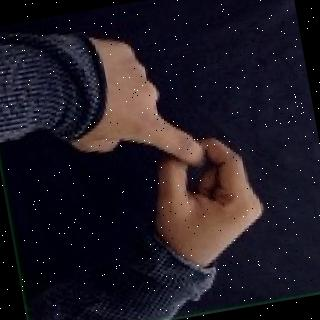Q: (61, 9, 280, 291)
